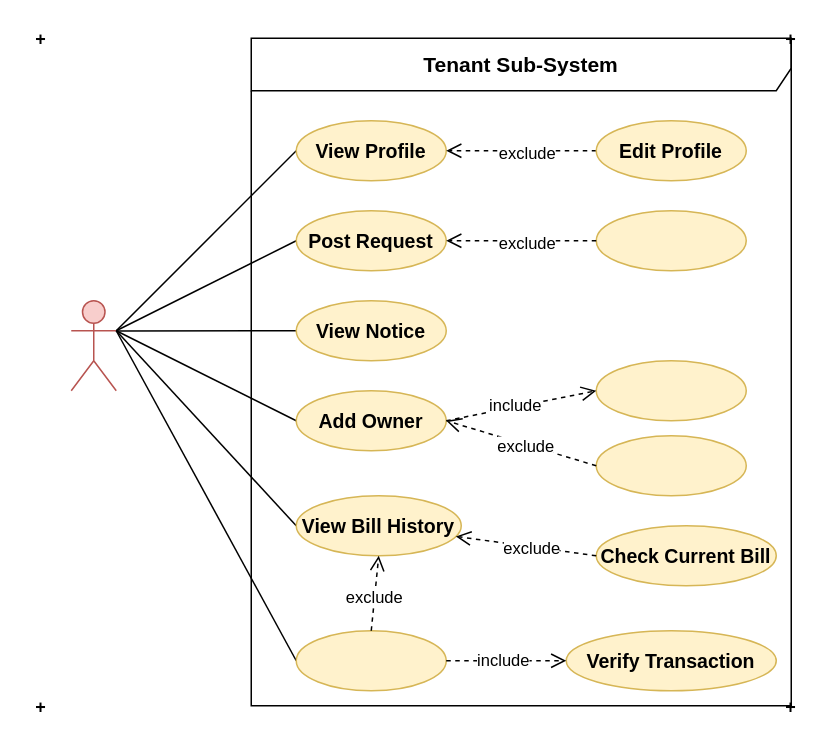
This 831x743 diagram has some shape labels left out. Each missing label, with the centre of its shape:
Pay Bill: point 370,660
Remove Owner: point 670,465
Tenant: point 93,345
Verify Owner: point 670,390
View Request: point 670,240
